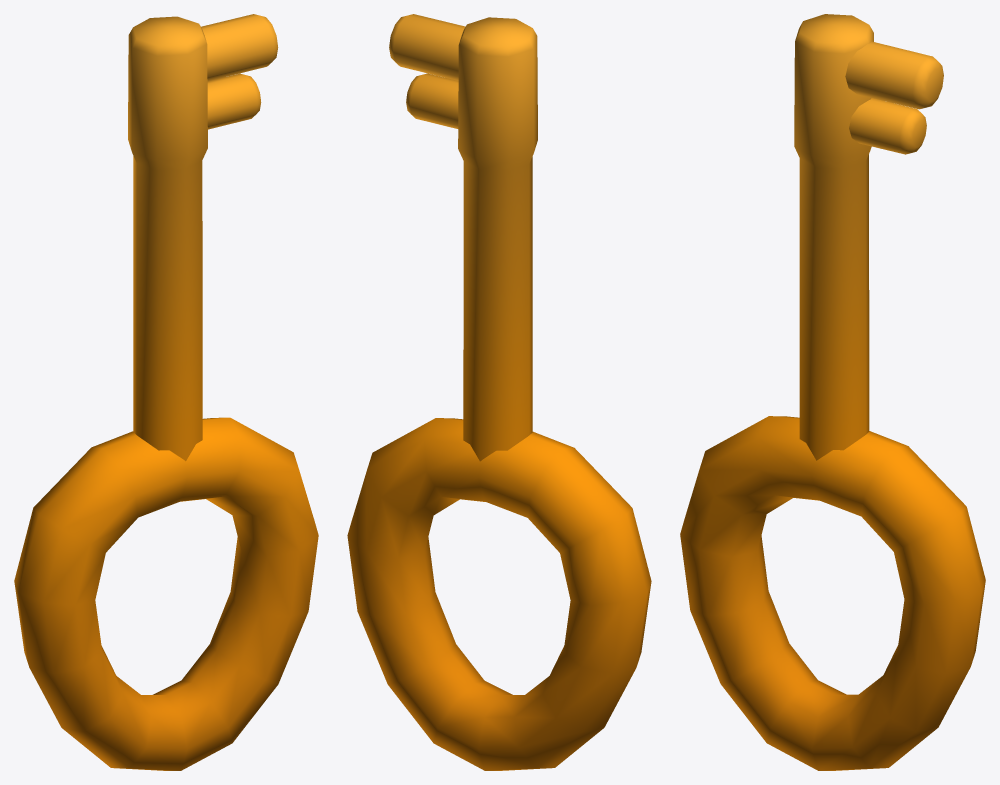
Rendered from Collectable_Key_01.fbx.
The picture shows the model from 3 angles, left to right: view 1: azimuth 30°, elevation 25°; view 2: azimuth 150°, elevation 25°; view 3: azimuth 330°, elevation 25°; orthographic projection.
Parts seen in each view (by area): view 1: Collectable_Key_01; view 2: Collectable_Key_01; view 3: Collectable_Key_01.
Part boxes in pixels (bbox=[...]): Collectable_Key_01: bbox=[14, 14, 318, 770]; Collectable_Key_01: bbox=[347, 14, 651, 770]; Collectable_Key_01: bbox=[680, 14, 985, 770].
Size of the model in its own units: 20.81 by 49.95 by 5.11.
1 material, 1 textured.
